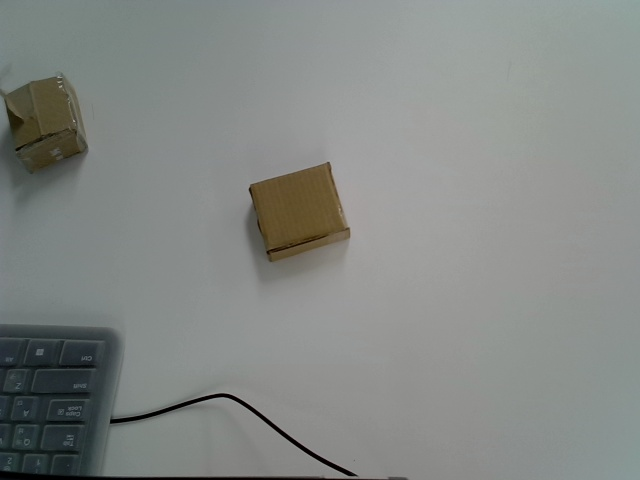defect: (2, 71, 88, 174)
normal: (250, 161, 350, 263)
